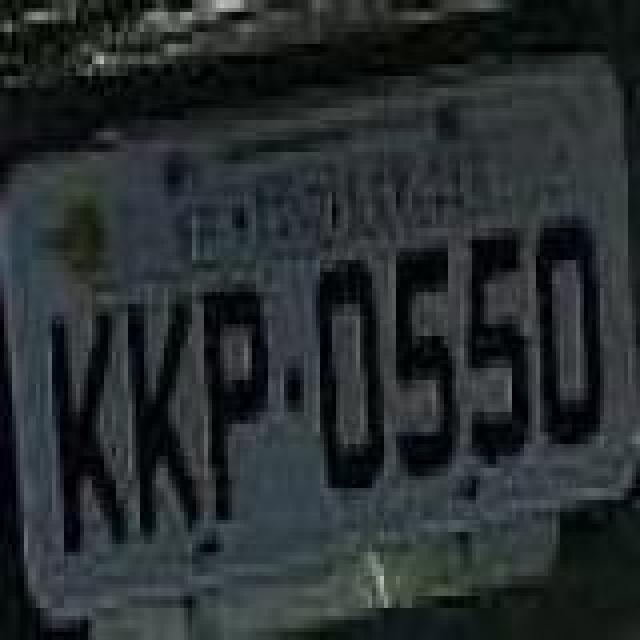5: (392, 242, 464, 478), (464, 230, 536, 466)
K: (48, 302, 128, 554), (122, 290, 198, 542)
O: (314, 260, 390, 500), (532, 208, 604, 448)
P: (202, 288, 278, 528)
